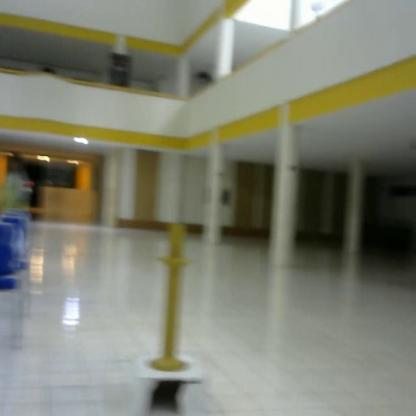pole: (142, 217, 201, 376)
